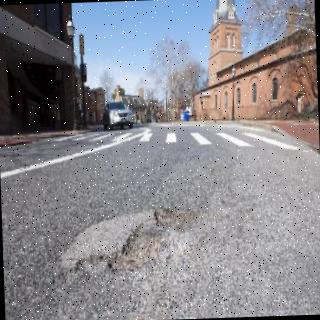pothole: (62, 212, 155, 269)
